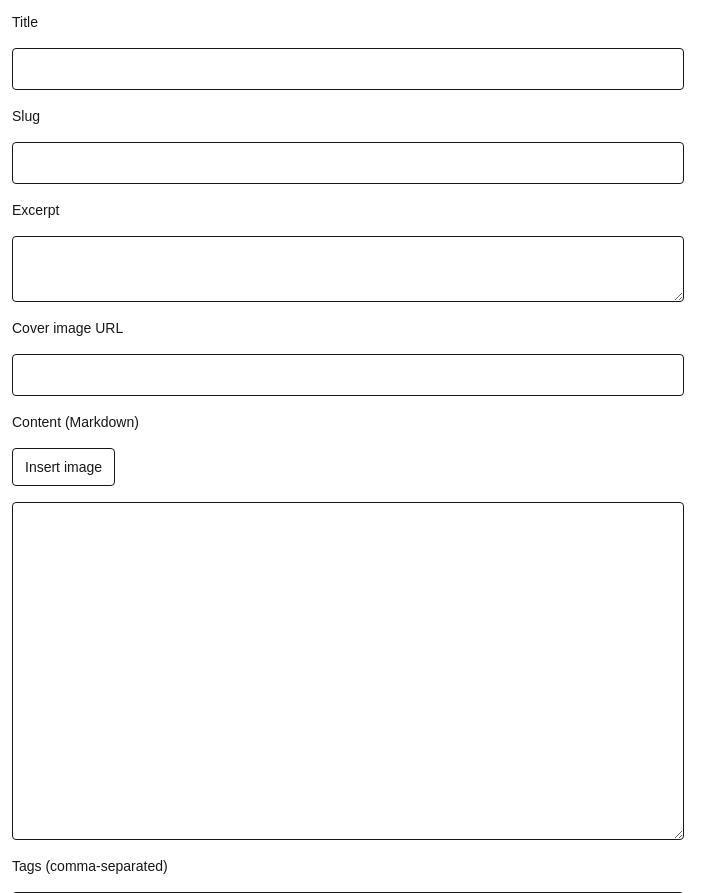
PostForm › create mode › auto-fills the slug from the title
In the field labelled "Title": (348, 69) [12,48,684,90], type "Hello World!"
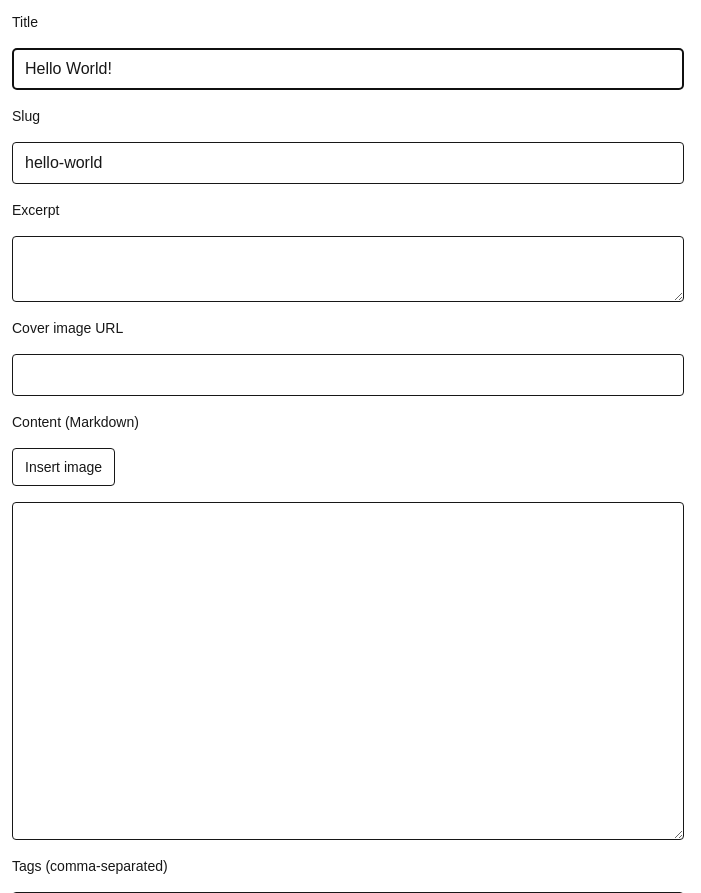
Expected: the field labelled "Slug" holds "hello-world", [12,142,684,184]
